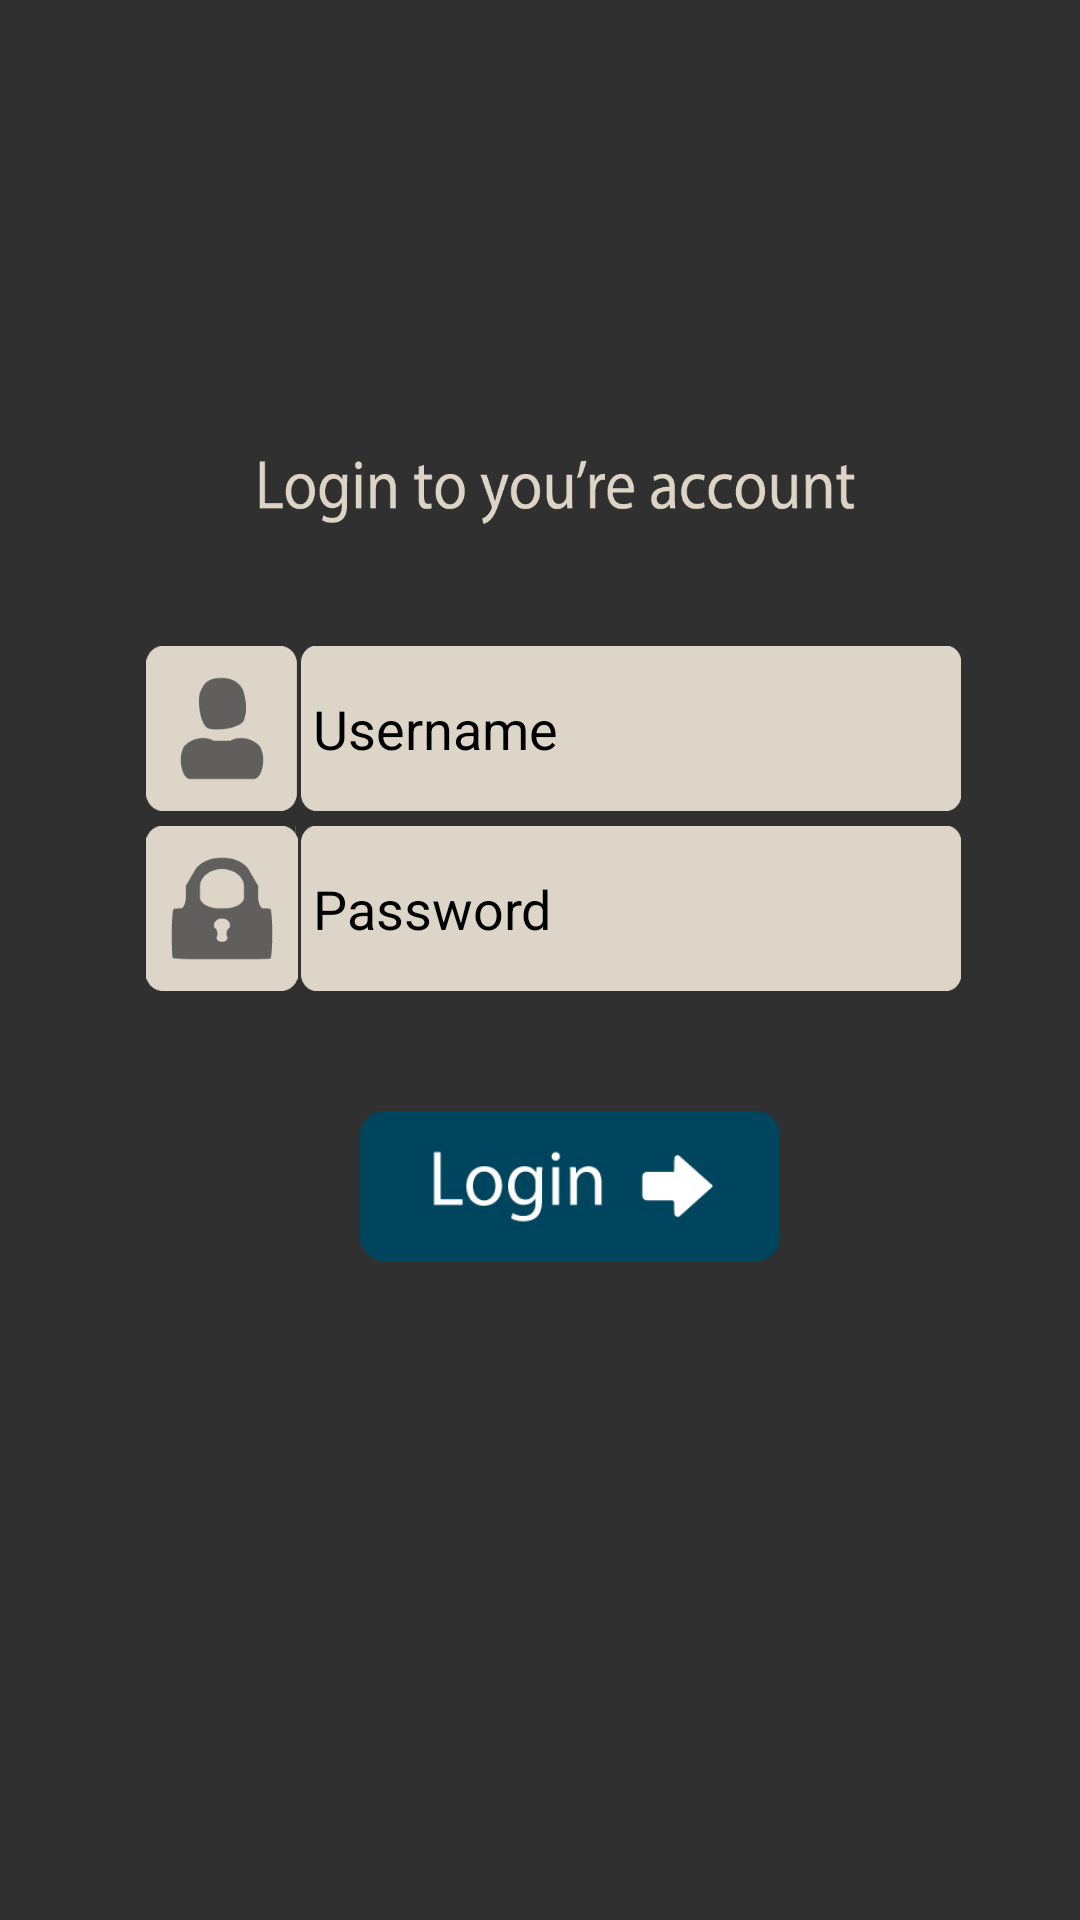

Screen size 1080*1920. Icon name, then its box in pixels as (x1, y1, x2, y2):
lock: (146, 826, 298, 991)
usericon: (146, 646, 297, 811)
